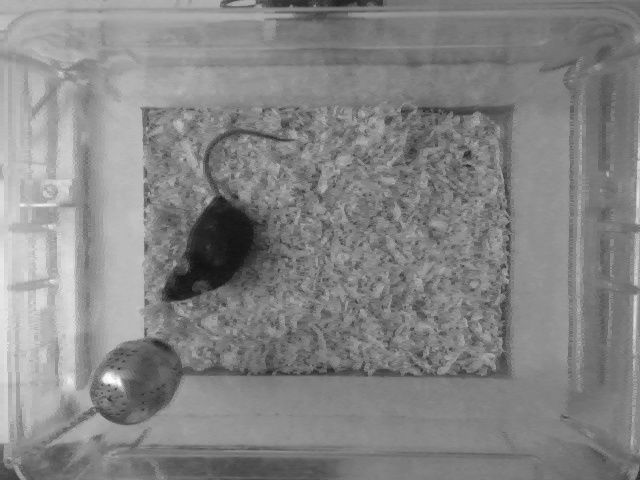mice: (156, 126, 300, 307)
